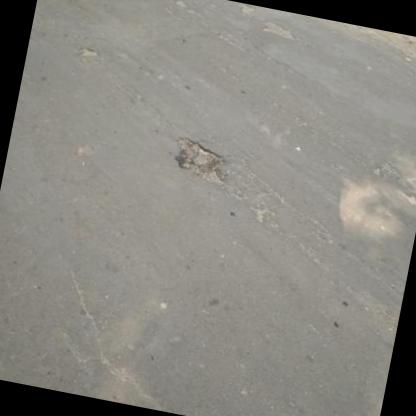pothole: (165, 134, 231, 188), (259, 17, 298, 41), (76, 44, 100, 60), (236, 2, 258, 16)
